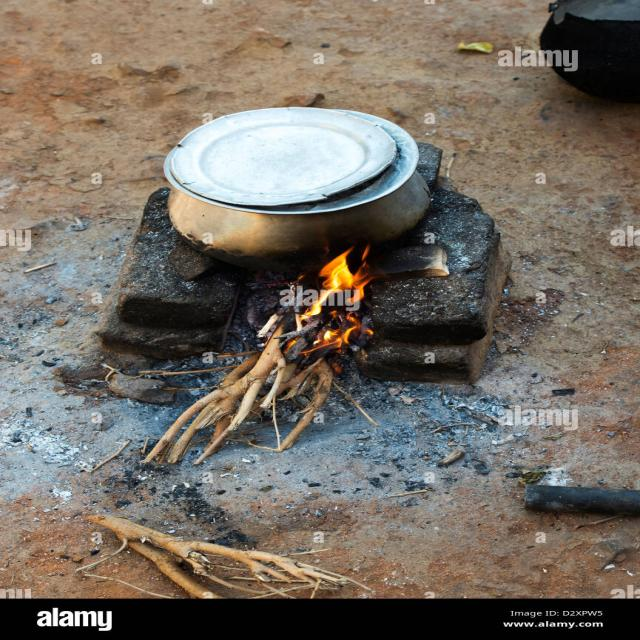fire: (319, 244, 372, 303), (299, 328, 353, 356)
